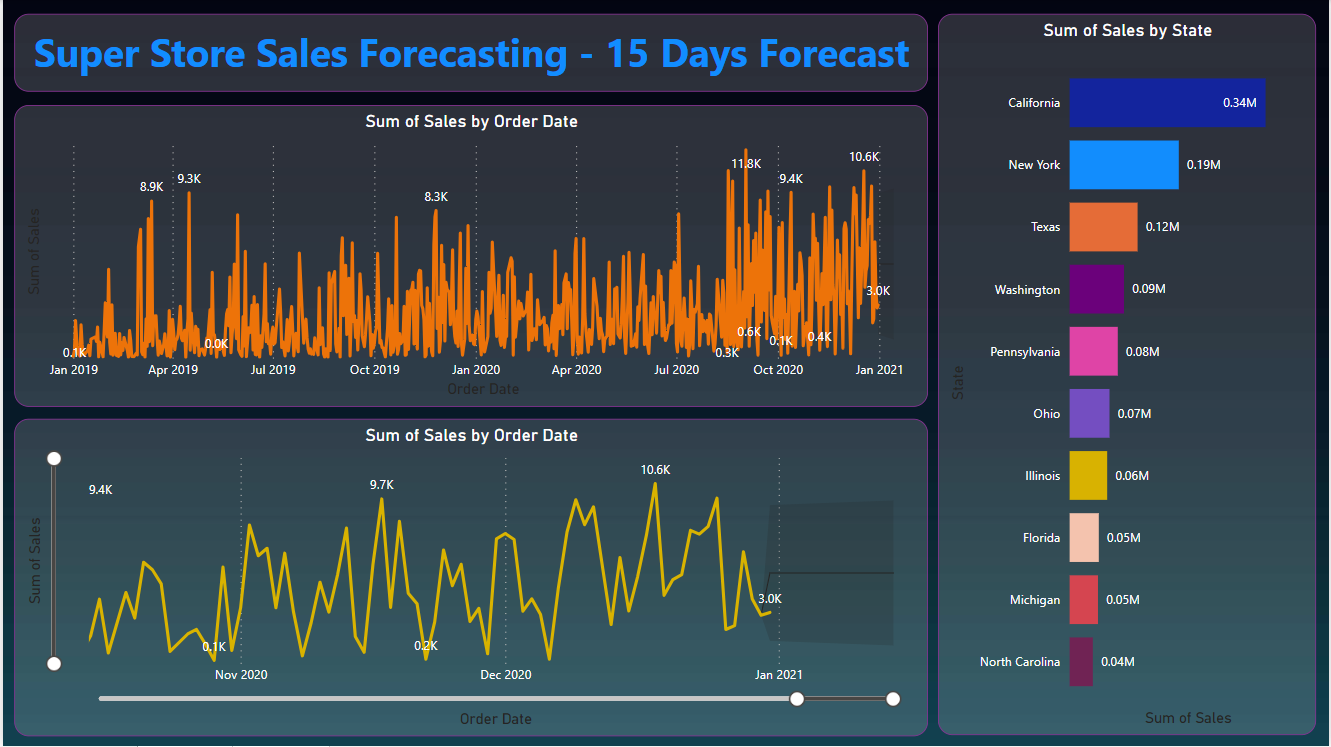

This screenshot's page, from the dashboard's own definition file:
{"tool":"powerbi","page":{"name":"Page 2","canvas":[1280,720],"ordinal":1},"visuals":[{"type":"lineChart","fields":{"Y":["Sum(SuperStore_Sales_Dataset.Sales)"],"Category":["SuperStore_Sales_Dataset.Order Date"]},"box":[11.2,101.2,881.2,291.2],"z":0},{"type":"lineChart","fields":{"Y":["Sum(SuperStore_Sales_Dataset.Sales)"],"Category":["SuperStore_Sales_Dataset.Order Date"]},"box":[11.2,403.8,881.2,306.2],"z":1000},{"type":"clusteredBarChart","fields":{"Category":["SuperStore_Sales_Dataset.State"],"Y":["Sum(SuperStore_Sales_Dataset.Sales)"]},"box":[902.5,13.8,365,696.2],"z":2000},{"type":"textbox","box":[11.2,13.8,881.2,75],"z":3000}]}

Visuals, with their boxes in screenshot pixels (x1, y1, x2, y2), scaled from the page's 1280x720 canvas onto the 1331x747 screenshot:
lineChart - Sum(SuperStore_Sales_Dataset.Sales) x SuperStore_Sales_Dataset.Order Date: 12, 105, 928, 407
lineChart - Sum(SuperStore_Sales_Dataset.Sales) x SuperStore_Sales_Dataset.Order Date: 12, 419, 928, 737
clusteredBarChart - SuperStore_Sales_Dataset.State x Sum(SuperStore_Sales_Dataset.Sales): 938, 14, 1318, 737
textbox: 12, 14, 928, 92
